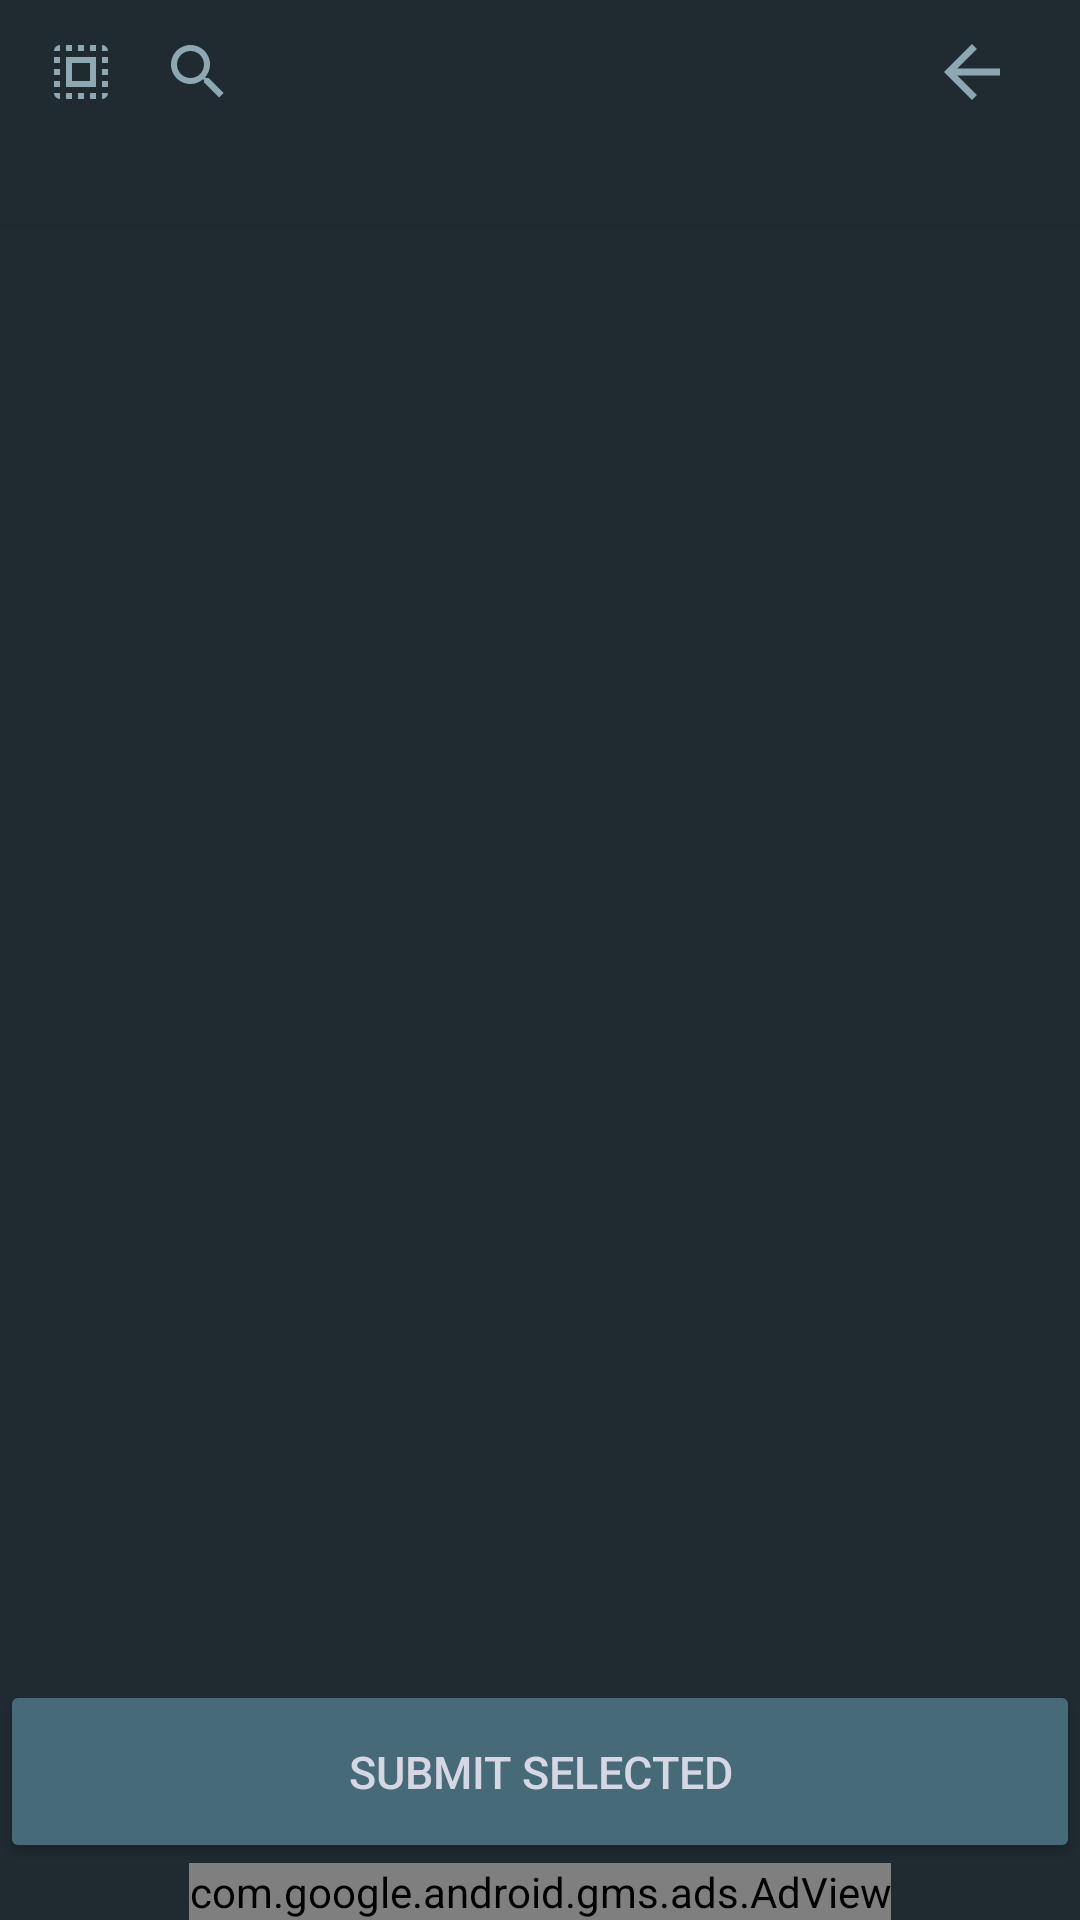

Where icons sit on this 1080*1920 app screen, as (x1, y1, x2, y2):
select all: (54, 45, 108, 99)
